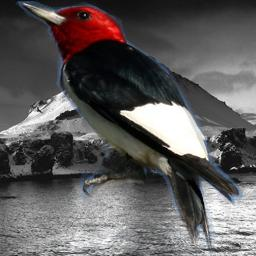Woodpecker: (14, 1, 248, 256)
